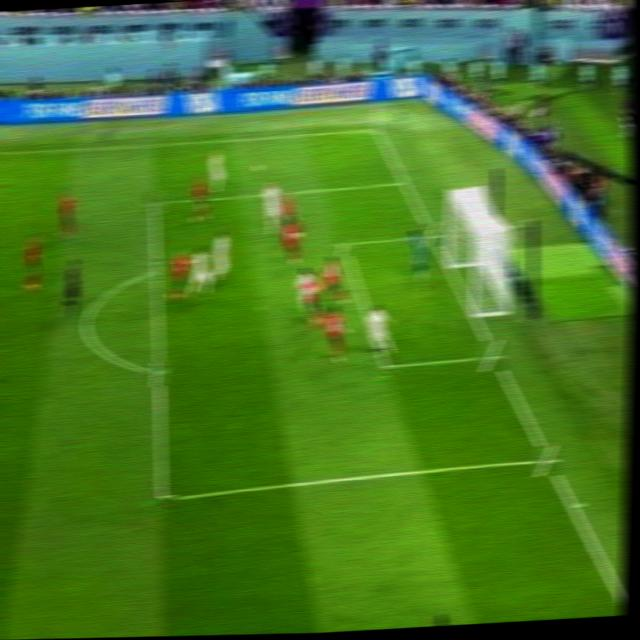bigarea_bottom_inner: (144, 480, 177, 513)
bigarea_bottom_outter: (534, 444, 560, 476)
bigarea_top_inner: (143, 189, 165, 214)
bigarea_top_outter: (393, 172, 414, 193)
bottom_arc_area_intersection: (146, 360, 169, 386)
corner: (365, 121, 386, 138)
smallarea_bottom_inner: (369, 347, 399, 384)
smallarea_bottom_outter: (478, 339, 507, 371)
smallarea_top_inner: (331, 230, 355, 257)
smallarea_top_outter: (418, 222, 443, 247)
top_arc_area_intersection: (143, 255, 167, 283)
